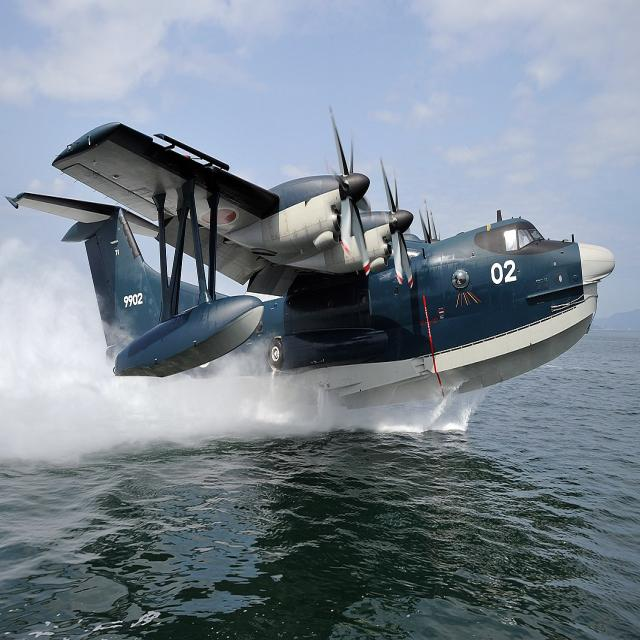MIL_Plane: (3, 101, 615, 412)
